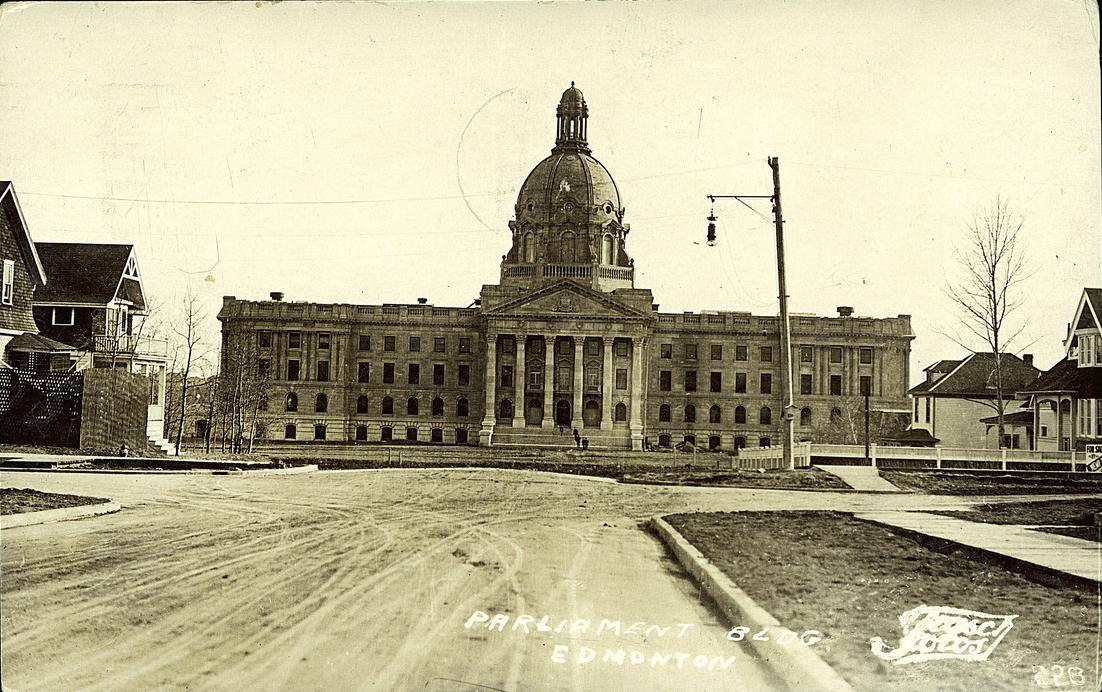affected: (228, 83, 928, 454)
